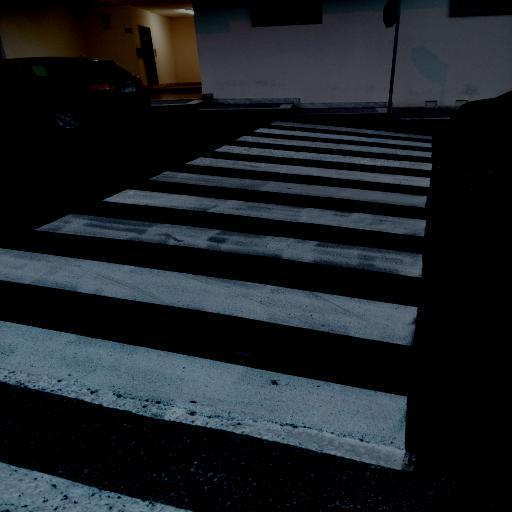crosswalk: (10, 186, 444, 282), (208, 130, 442, 174)
